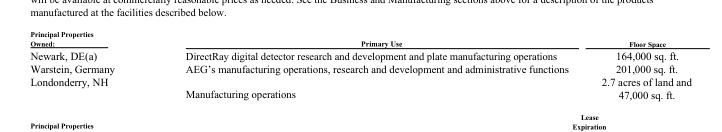table: (29, 29, 691, 100)
table column: (149, 29, 584, 100), (29, 29, 149, 100), (584, 29, 691, 100)
table column header: (29, 29, 691, 48)
table row: (29, 74, 691, 100), (29, 29, 691, 48), (29, 48, 691, 61), (29, 61, 691, 74)
